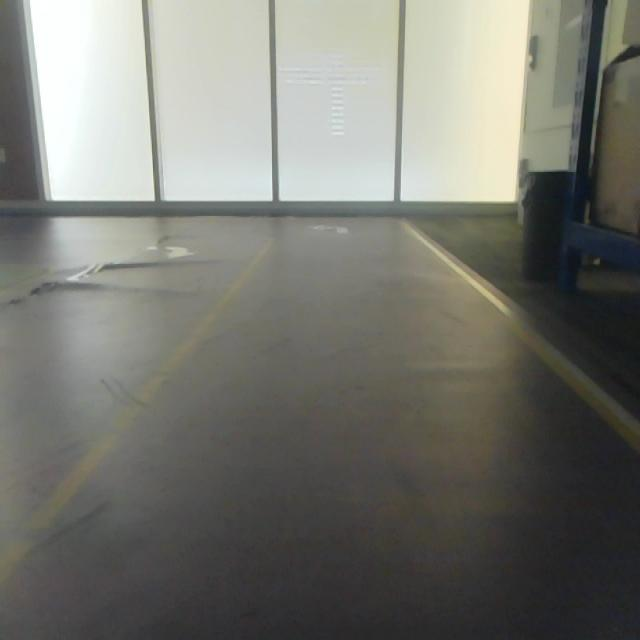left_lane: (0, 240, 271, 590)
right_lane: (397, 220, 639, 447)
